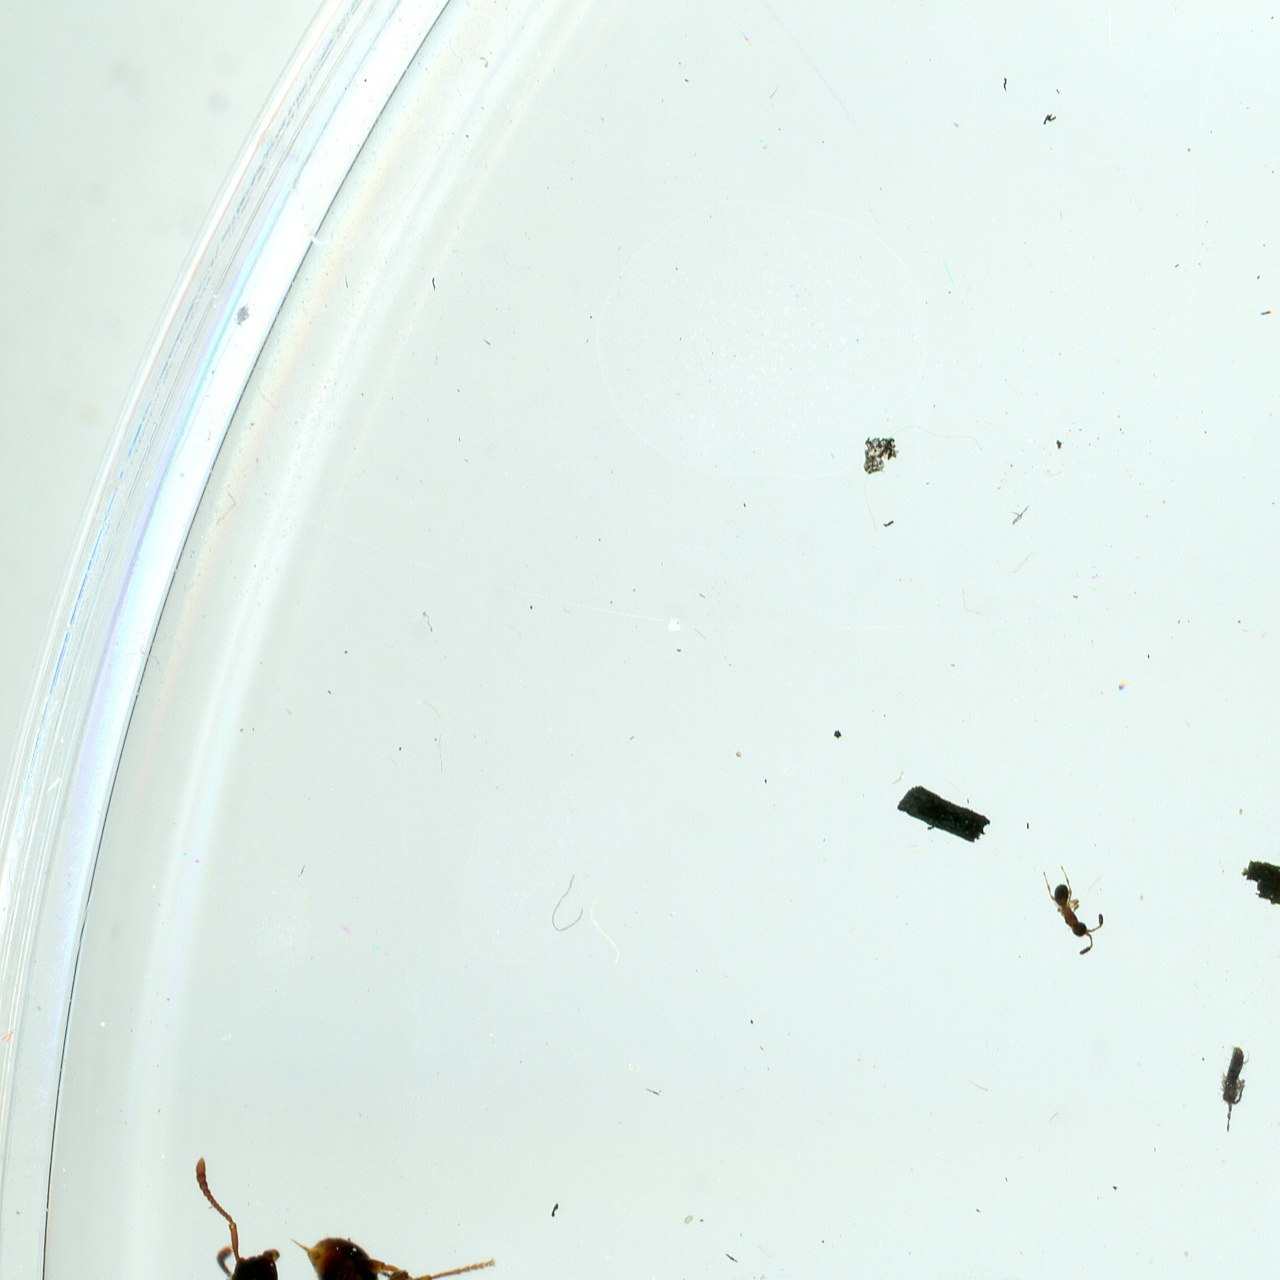arthropod: (169, 1150, 518, 1280), (1033, 858, 1118, 960), (1211, 1028, 1256, 1136)
